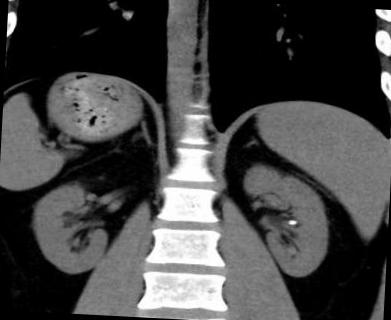Tas_Var: (288, 218, 298, 228)
